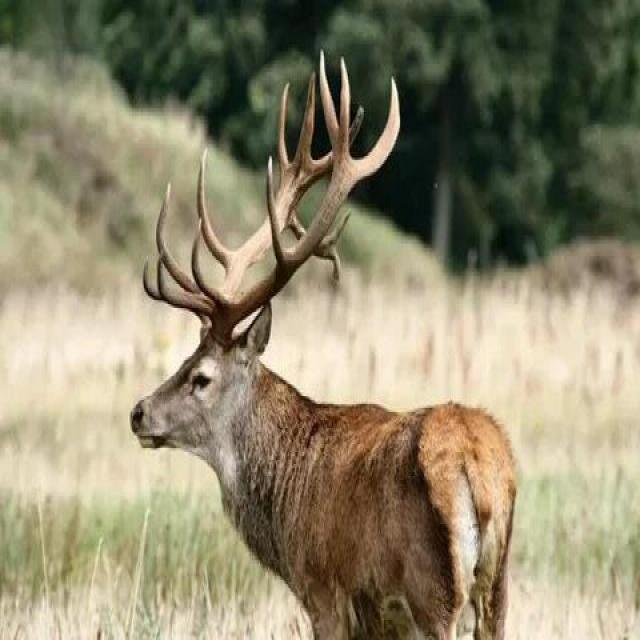deer: (137, 181, 640, 640)
